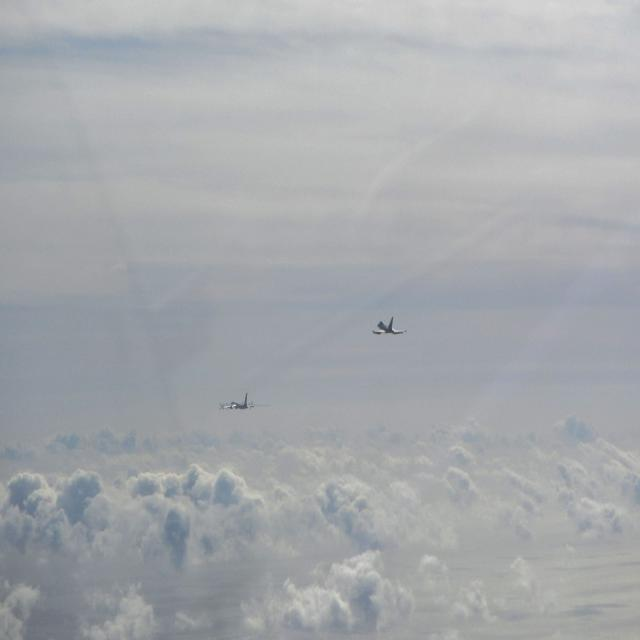MIL_Plane: (211, 393, 272, 411), (372, 316, 407, 335)
